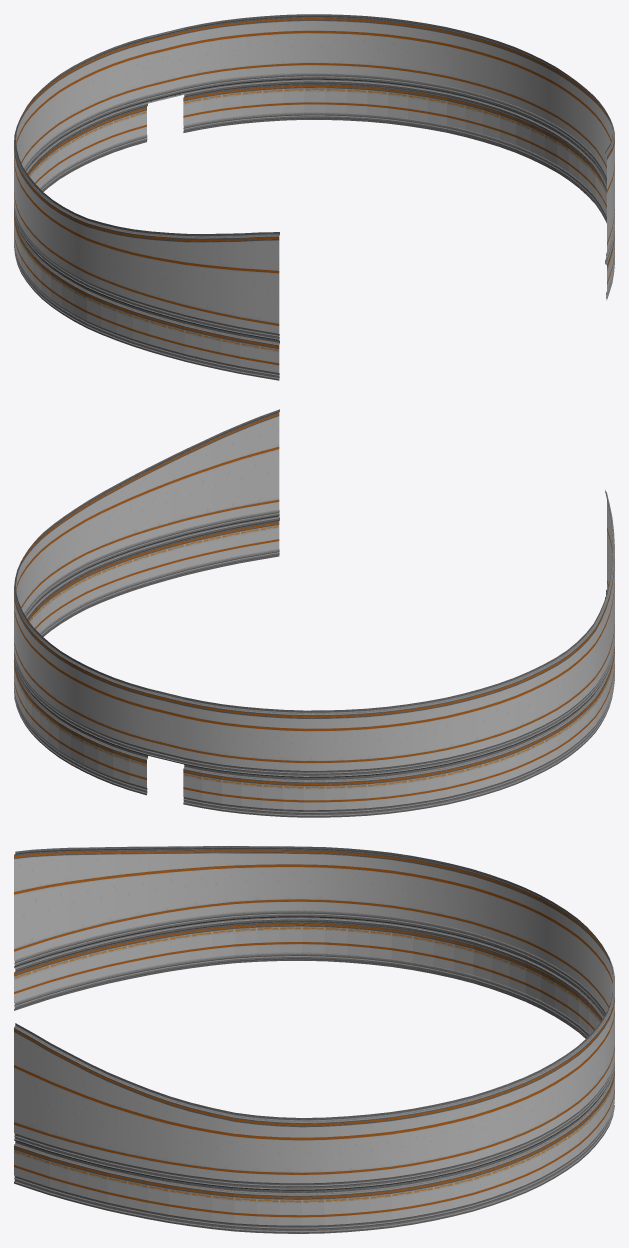
File: L2 Walls.fbx
3 views of the same model, one above another, from view 1: azimuth 30°, elevation 25°; view 2: azimuth 150°, elevation 25°; view 3: azimuth 270°, elevation 25° (orthographic). The views are drawn at different scales.
Visible parts, largest first — view 1: Wall.007, Wall.005; view 2: Wall.007, Wall.005; view 3: Wall.007, Wall.005.
Boxes of the visible parts, x1=… form: Wall.007: x1=14, y1=14, x2=614, y2=340; Wall.005: x1=14, y1=81, x2=614, y2=380; Wall.007: x1=14, y1=409, x2=614, y2=777; Wall.005: x1=14, y1=518, x2=614, y2=817; Wall.007: x1=14, y1=846, x2=614, y2=1190; Wall.005: x1=14, y1=919, x2=614, y2=1233.
Size of the model in its own units: 121 by 33.08 by 112.
